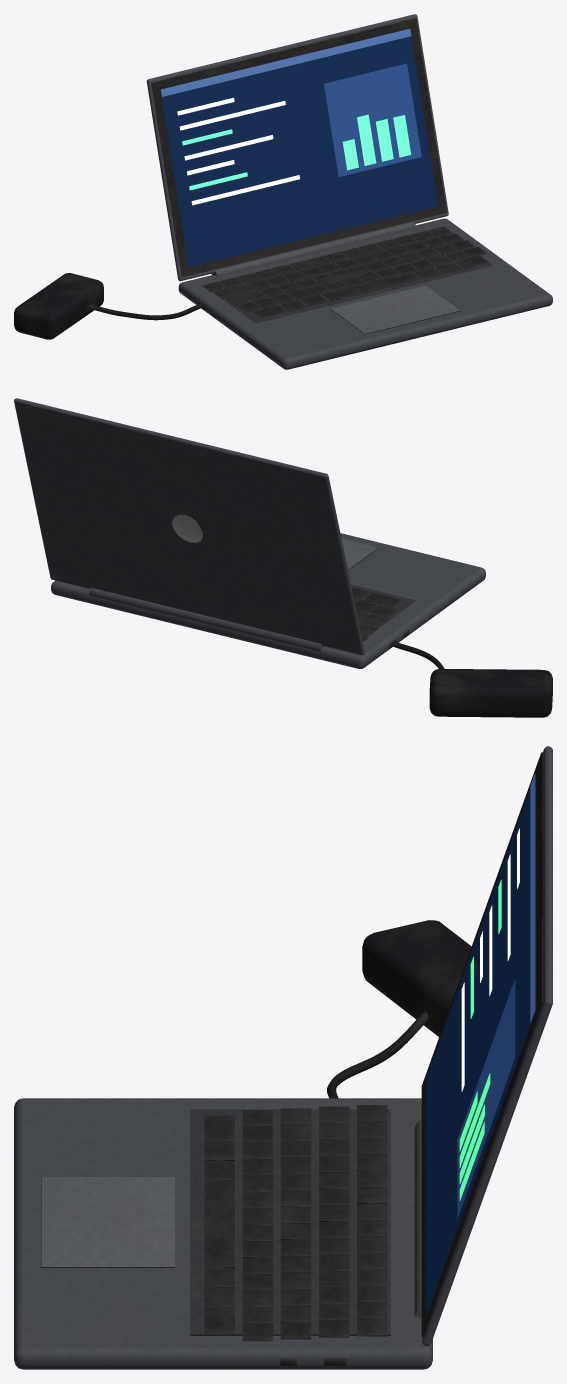
File: dom_laptop.glb
The picture shows the model from 3 angles, top to bottom: view 1: azimuth 30°, elevation 25°; view 2: azimuth 150°, elevation 25°; view 3: azimuth 270°, elevation 25°; orthographic projection. The views are drawn at different scales.
Parts seen in each view (by area): view 1: Laptop, Ekran, EkranOkna; view 2: Laptop; view 3: Laptop, Ekran, EkranOkna.
Part boxes in pixels (left/top/right/bottom): Laptop: left=14, top=14, right=552, bottom=369; Ekran: left=160, top=32, right=437, bottom=266; EkranOkna: left=161, top=29, right=421, bottom=205; Laptop: left=14, top=398, right=552, bottom=717; Laptop: left=14, top=746, right=552, bottom=1369; Ekran: left=426, top=774, right=536, bottom=1314; EkranOkna: left=457, top=774, right=535, bottom=1218.
Bounding box in the file's own units: 0.5209 × 0.2226 × 0.2895.
6 materials, 1 textured.
